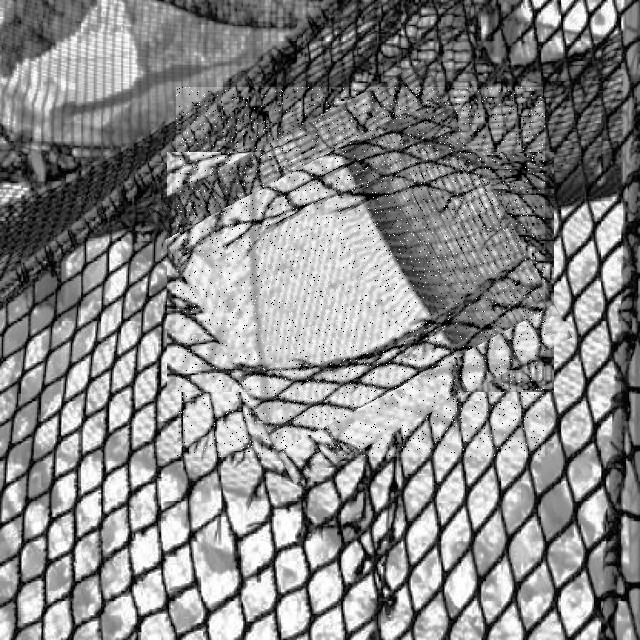anomaly-fence: (176, 87, 545, 457)
